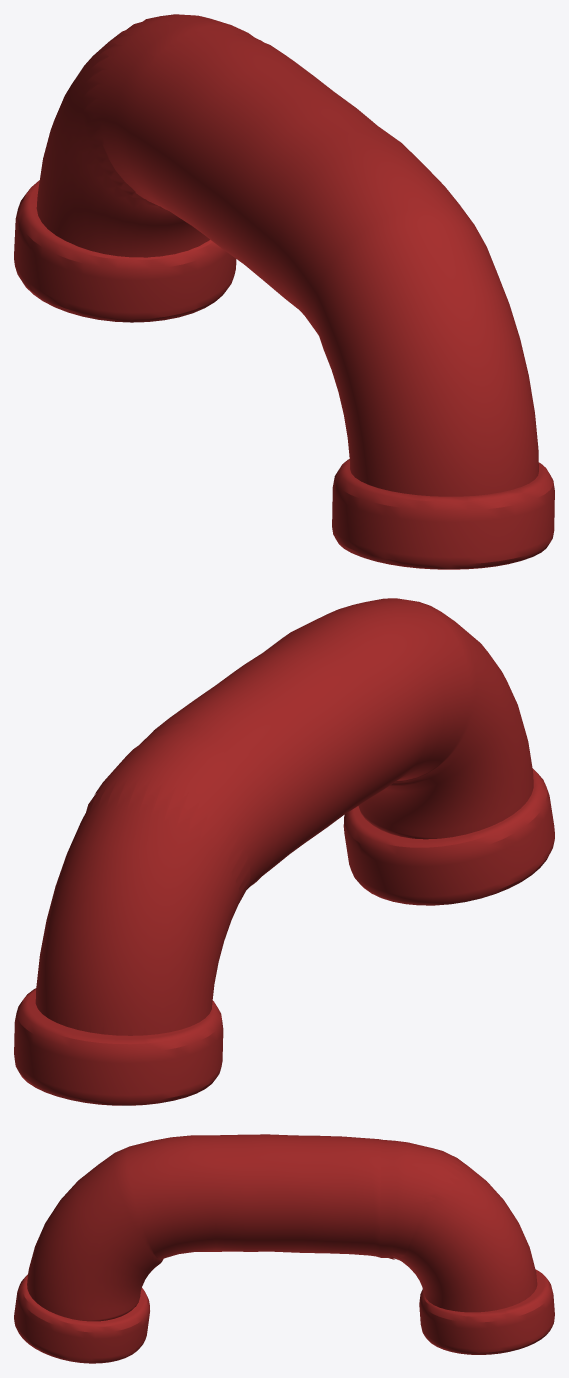
File: telefono.obj
The picture shows the model from 3 angles, top to bottom: view 1: azimuth 30°, elevation 25°; view 2: azimuth 150°, elevation 25°; view 3: azimuth 270°, elevation 25°; orthographic projection. The views are drawn at different scales.
Visible parts, largest first — view 1: polySurface39; view 2: polySurface39; view 3: polySurface39.
Part boxes in pixels (x1,y1,x2,y2): polySurface39: (14,14,554,569); polySurface39: (14,598,554,1105); polySurface39: (14,1134,554,1363).
Size of the model in its own units: 0.6216 by 0.9517 by 2.28.
